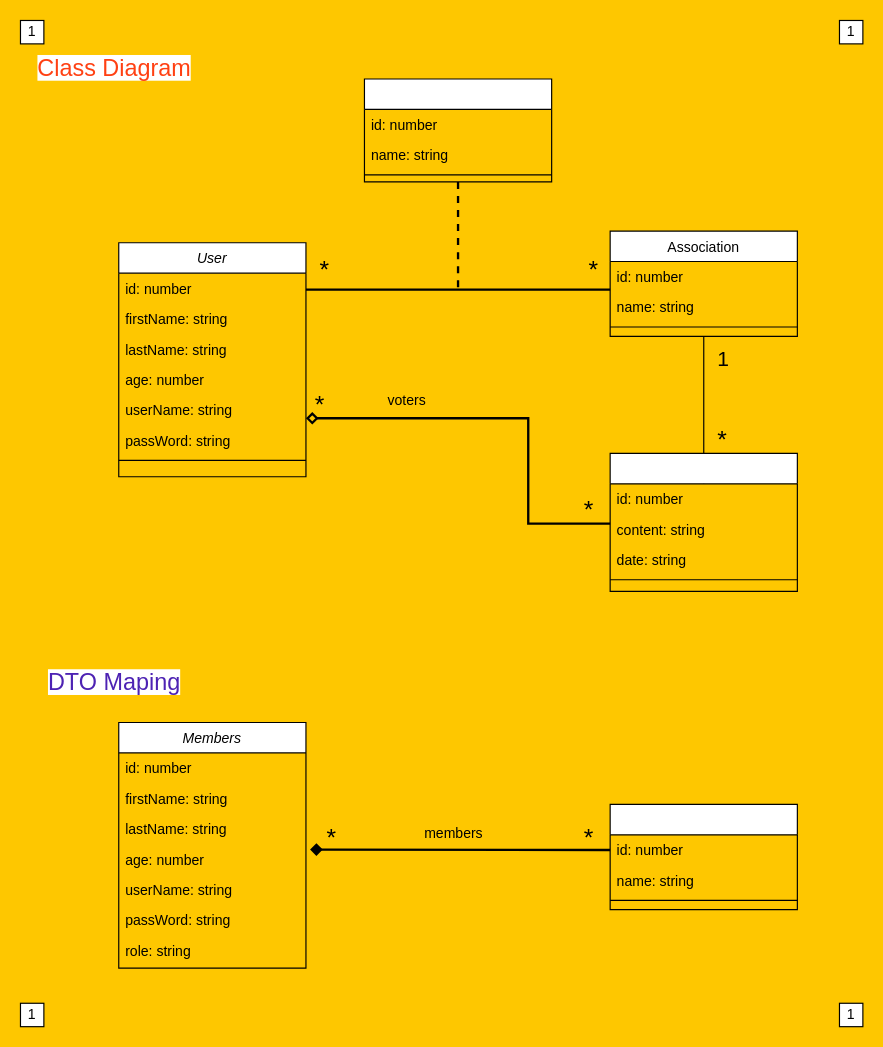
Image size: 883x1047. Some labels were removed from this diagram. Here are the shapes that lost their labels. From the top down, the box of each, then its label:
(363, 78, 552, 182): Role
(609, 452, 797, 591): Minute
(609, 803, 797, 910): AssociationDTO
